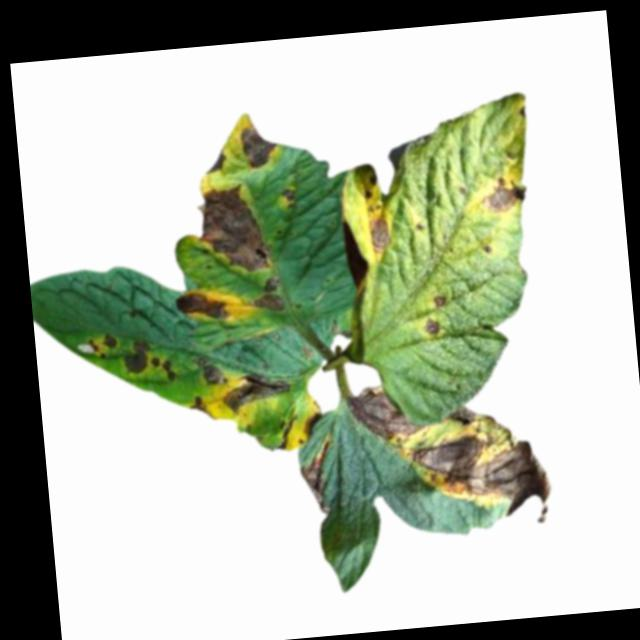Early_blight: (404, 420, 556, 533), (195, 181, 273, 278), (345, 379, 428, 440), (219, 364, 292, 416), (296, 436, 334, 517), (477, 174, 527, 219), (172, 289, 230, 326), (237, 124, 278, 172), (245, 274, 286, 317), (442, 402, 494, 428), (365, 211, 391, 259), (118, 340, 152, 375), (190, 357, 227, 389), (88, 332, 118, 361), (184, 393, 215, 421), (150, 355, 176, 385), (203, 147, 228, 177), (300, 413, 325, 438), (419, 316, 441, 339), (280, 188, 297, 212), (430, 294, 446, 312)
